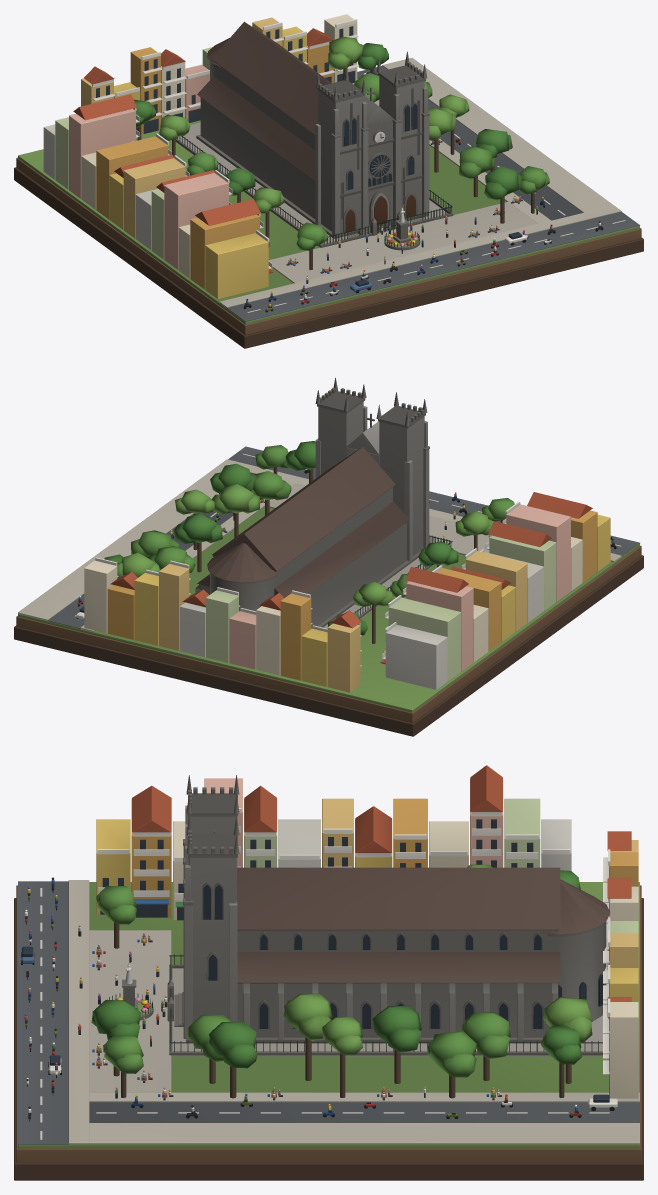
The model's file is nha-tho-lon-ha-noi.glb.
3 renders of one model, top to bottom at view 1: azimuth 30°, elevation 25°; view 2: azimuth 150°, elevation 25°; view 3: azimuth 270°, elevation 25°, orthographic. The views are drawn at different scales.
Parts seen in each view (by area): view 1: HN_aisle; view 2: HN_aisle; view 3: HN_aisle.
Part boxes in pixels (x1,y1,x2,y2): HN_aisle: [14, 14, 643, 348]; HN_aisle: [14, 377, 643, 736]; HN_aisle: [14, 765, 643, 1180].
Size of the model in its own units: 92 by 39.2 by 92.
1 material, 1 textured.
